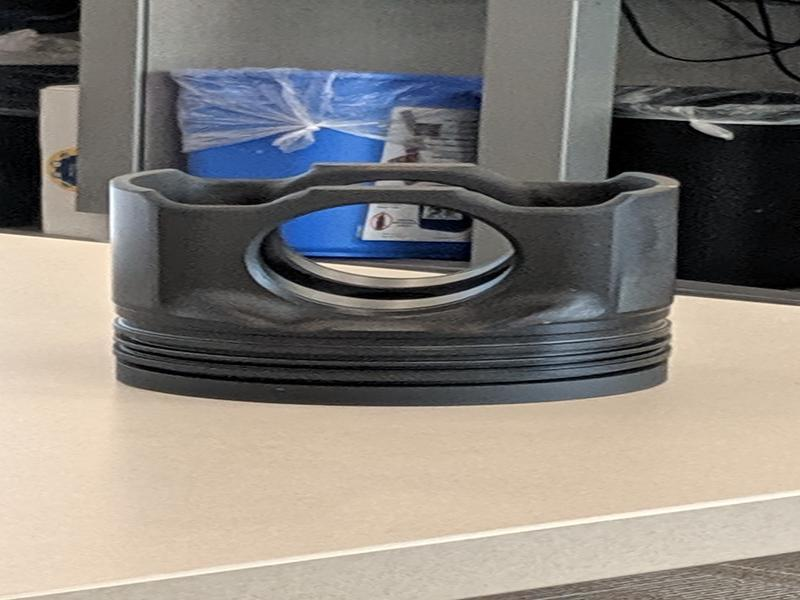piston: (102, 153, 687, 413)
